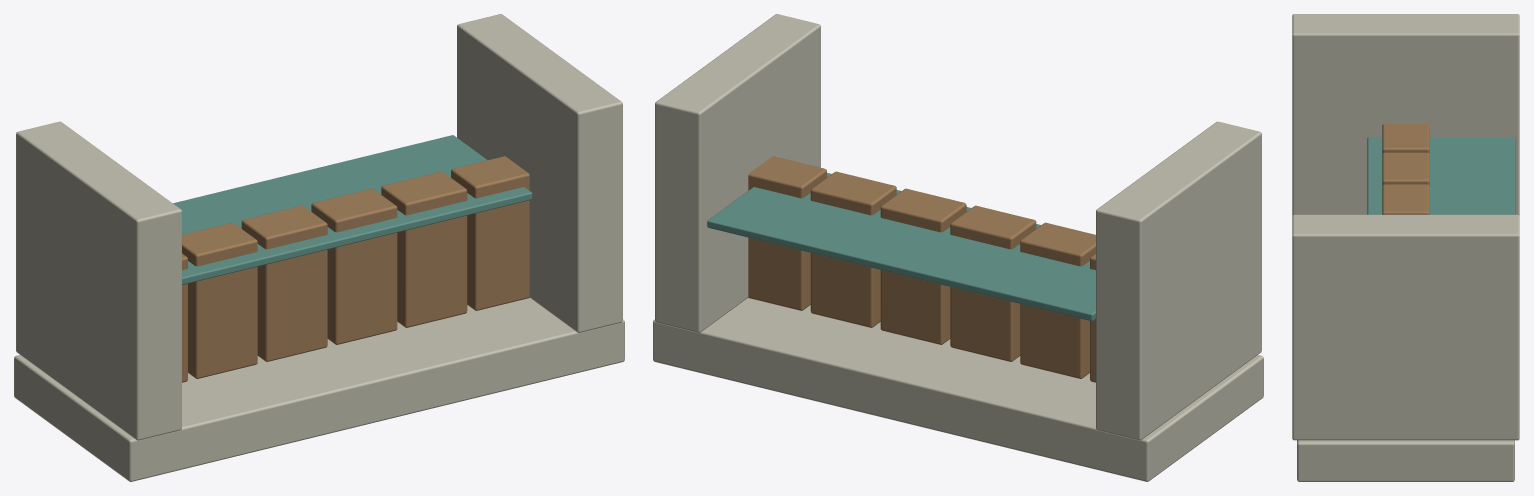
Rendered from millpond-weir.glb.
3 renders of one model, left to right at view 1: azimuth 30°, elevation 25°; view 2: azimuth 150°, elevation 25°; view 3: azimuth 270°, elevation 25°, orthographic. The views are drawn at different scales.
Parts seen in each view (by area): view 1: millpond-weir; view 2: millpond-weir; view 3: millpond-weir.
Part boxes in pixels (x1=…): millpond-weir: x1=14, y1=14, x2=624, y2=481; millpond-weir: x1=653, y1=14, x2=1263, y2=481; millpond-weir: x1=1292, y1=14, x2=1519, y2=481.
Bounding box in the file's own units: 2.7 × 1.37 × 1.15.
